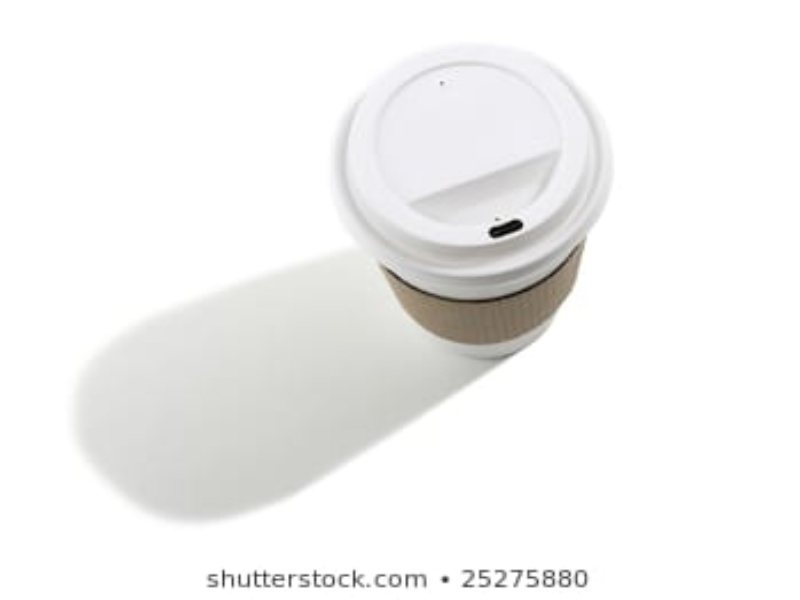coffee-lid: (334, 42, 617, 280)
